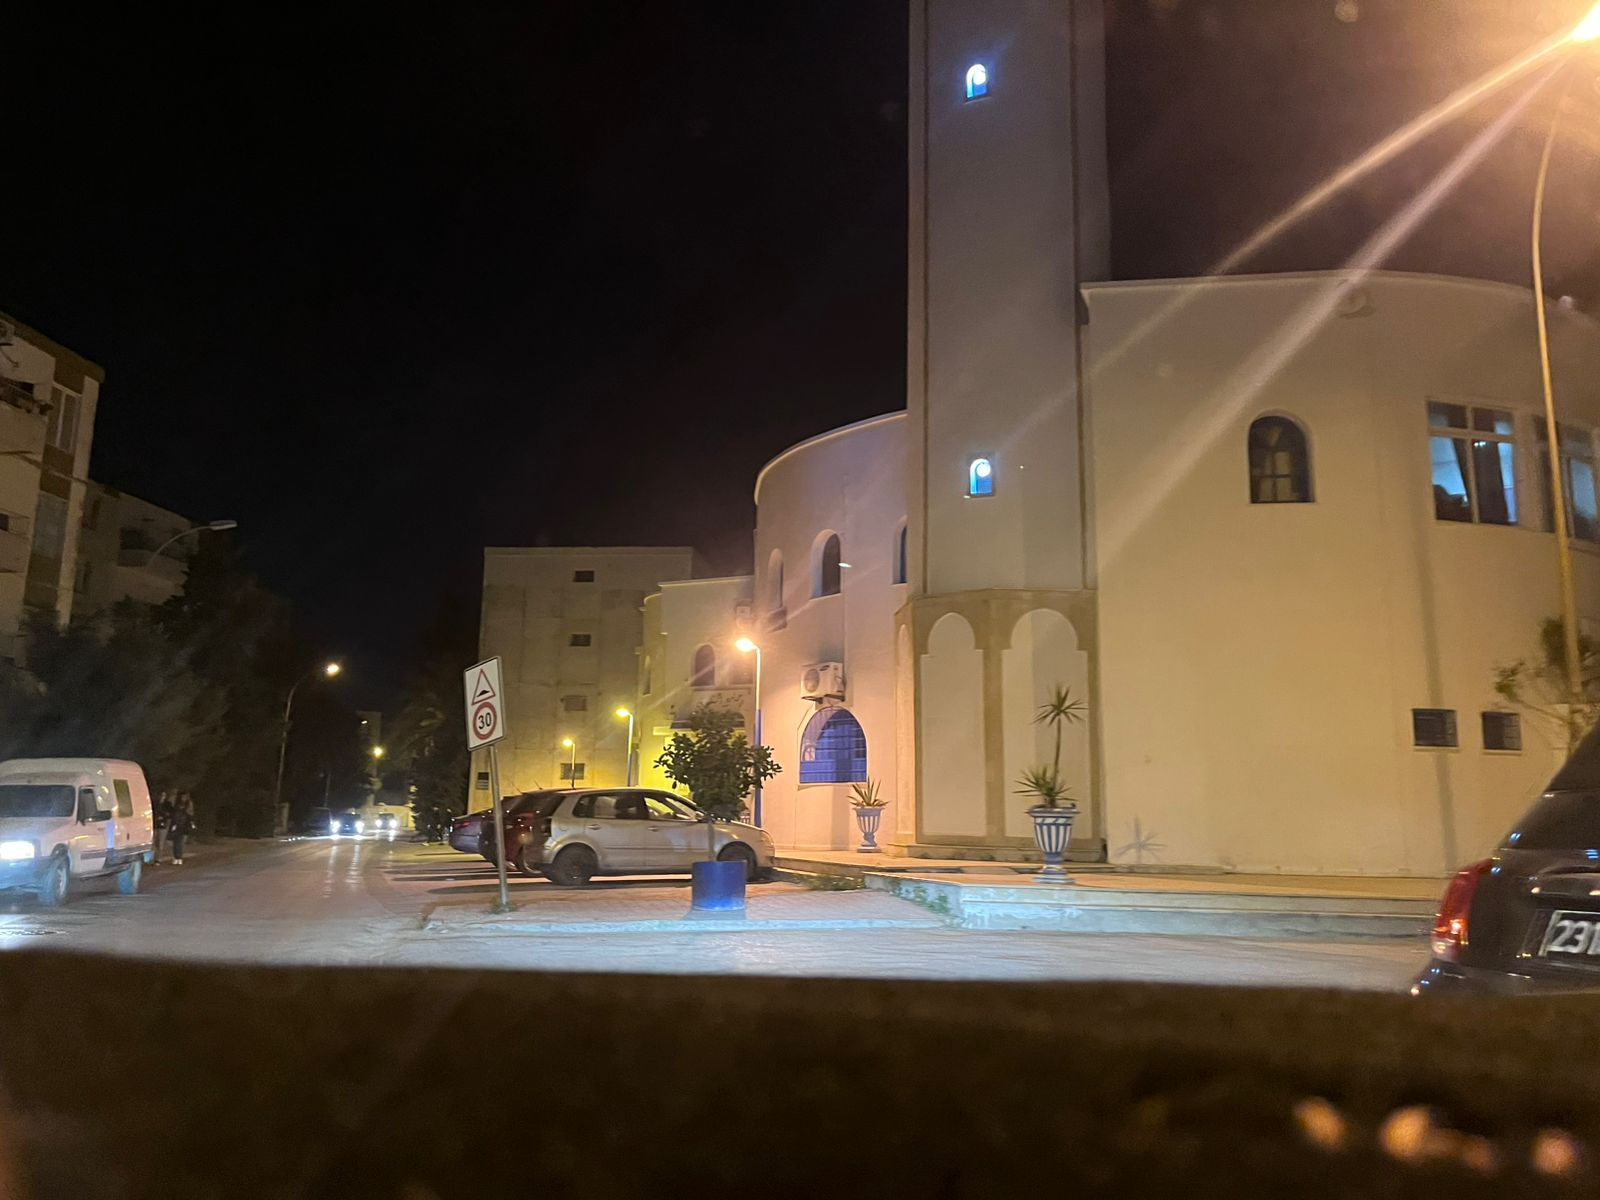SpeedLimit30: (465, 654, 504, 750)
